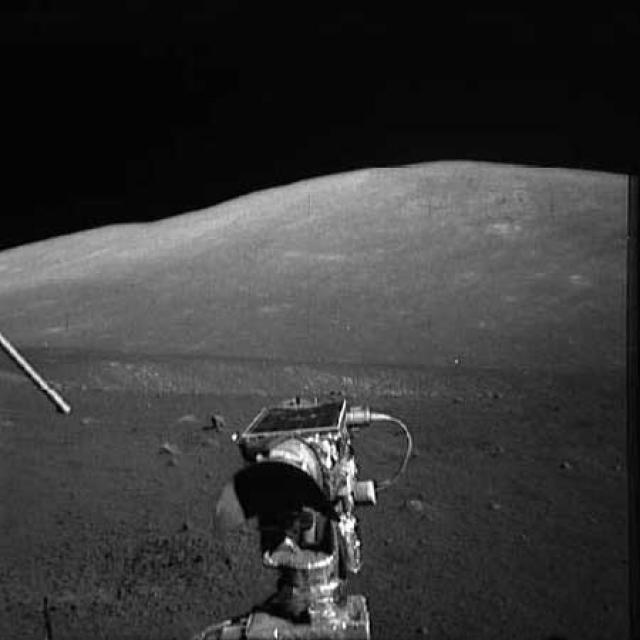artifact: (190, 396, 432, 638), (0, 324, 83, 420)
rock: (146, 433, 182, 467), (200, 402, 230, 428)
